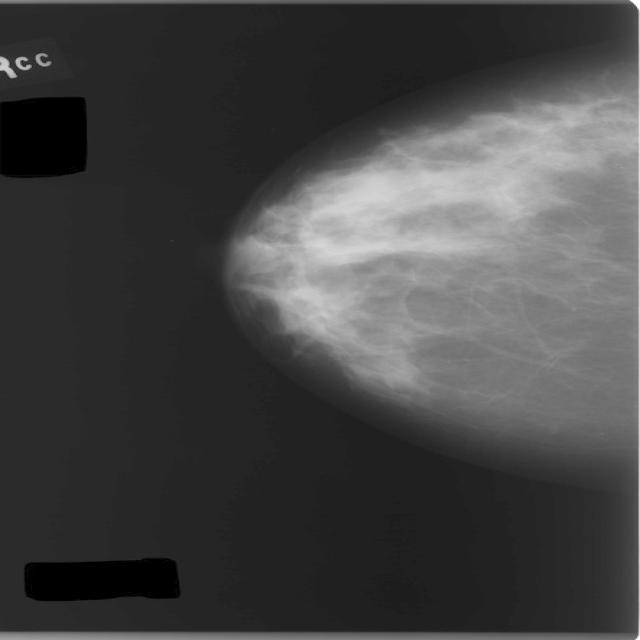tumour: (535, 95, 621, 125)
